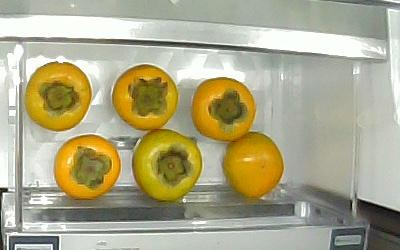persimmon: (134, 129, 203, 202), (23, 62, 93, 133), (111, 61, 178, 132), (54, 134, 121, 199), (192, 77, 256, 143), (223, 132, 284, 199)
